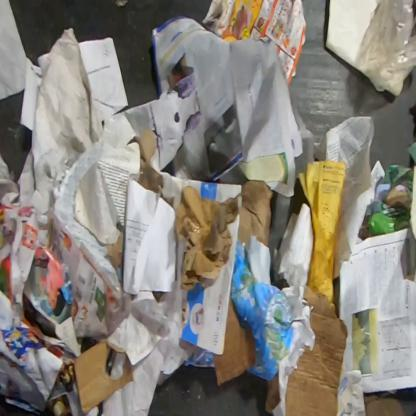cardboard: (99, 87, 202, 182), (199, 0, 306, 87), (286, 282, 348, 416), (73, 340, 133, 414), (358, 164, 414, 241), (212, 295, 257, 388), (324, 0, 379, 67), (237, 178, 276, 250), (137, 128, 163, 193), (363, 393, 407, 415), (264, 375, 281, 415), (386, 80, 404, 97)
soft_plastic: (355, 0, 415, 95)
